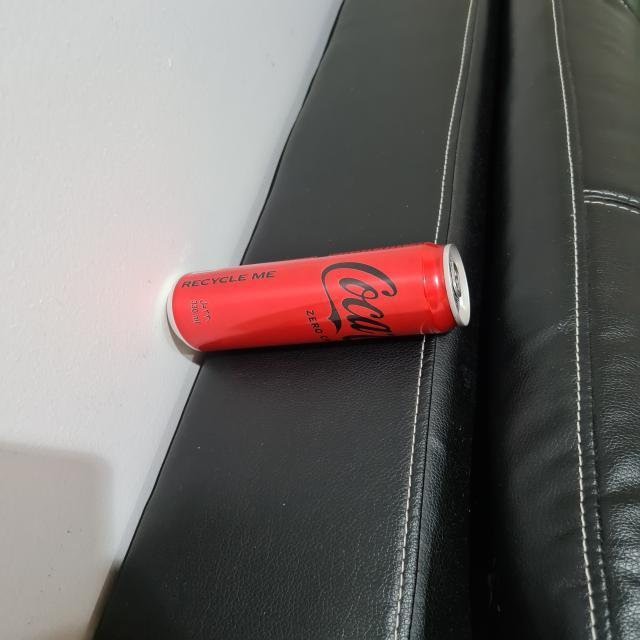can: (159, 240, 481, 356)
